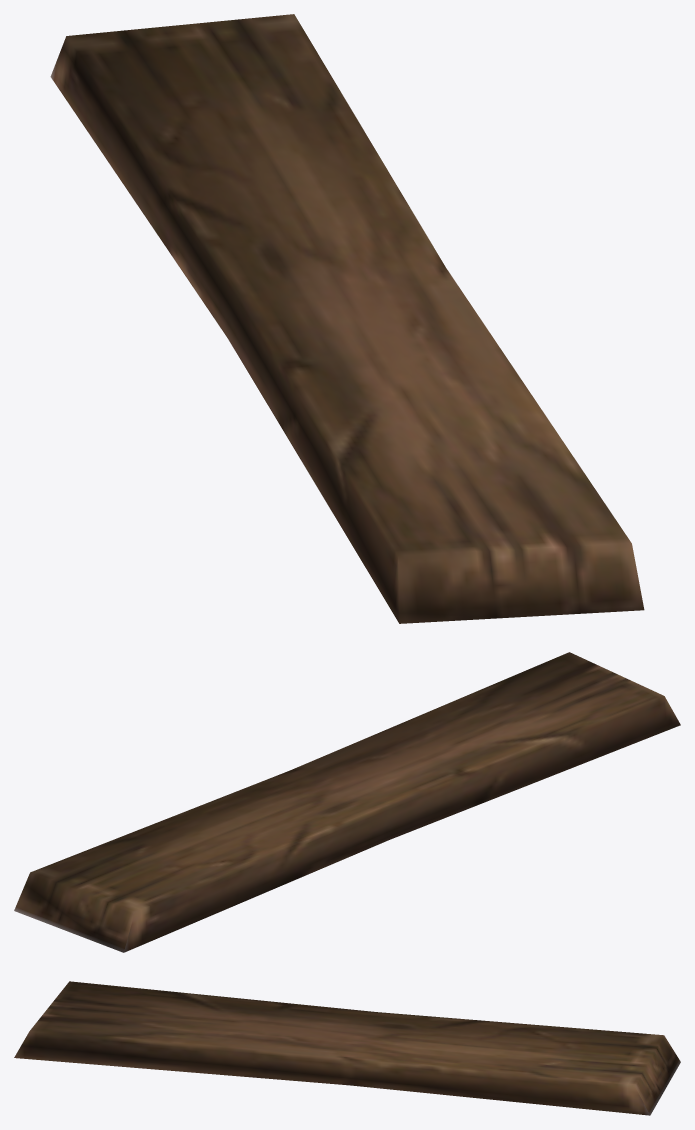
Rendered from Anmaodao_lanmutou01.FBX.
3 renders of one model, top to bottom at view 1: azimuth 30°, elevation 25°; view 2: azimuth 150°, elevation 25°; view 3: azimuth 270°, elevation 25°, orthographic. The views are drawn at different scales.
Parts seen in each view (by area): view 1: Anmaodao_lanmutou01; view 2: Anmaodao_lanmutou01; view 3: Anmaodao_lanmutou01.
Part boxes in pixels (<box>): Anmaodao_lanmutou01: <box>50,14,644,623</box>; Anmaodao_lanmutou01: <box>14,652,680,952</box>; Anmaodao_lanmutou01: <box>14,981,680,1115</box>.
Size of the model in its own units: 29.88 by 71.17 by 4.75.
